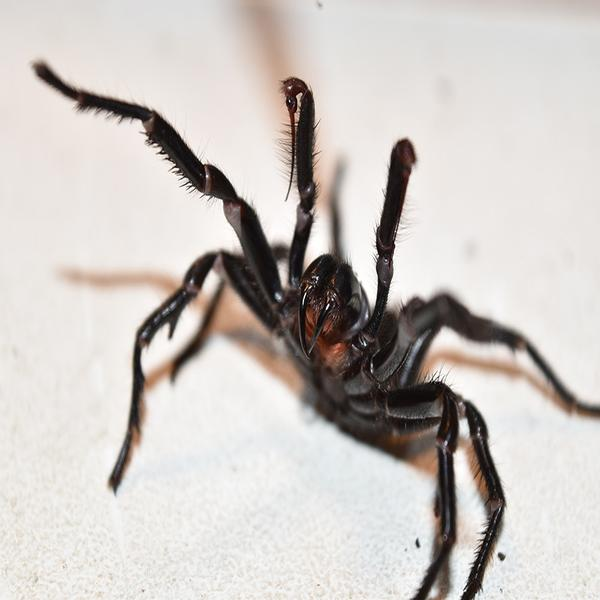Sydney_Funnel_Web_Spider: (33, 59, 597, 600)
